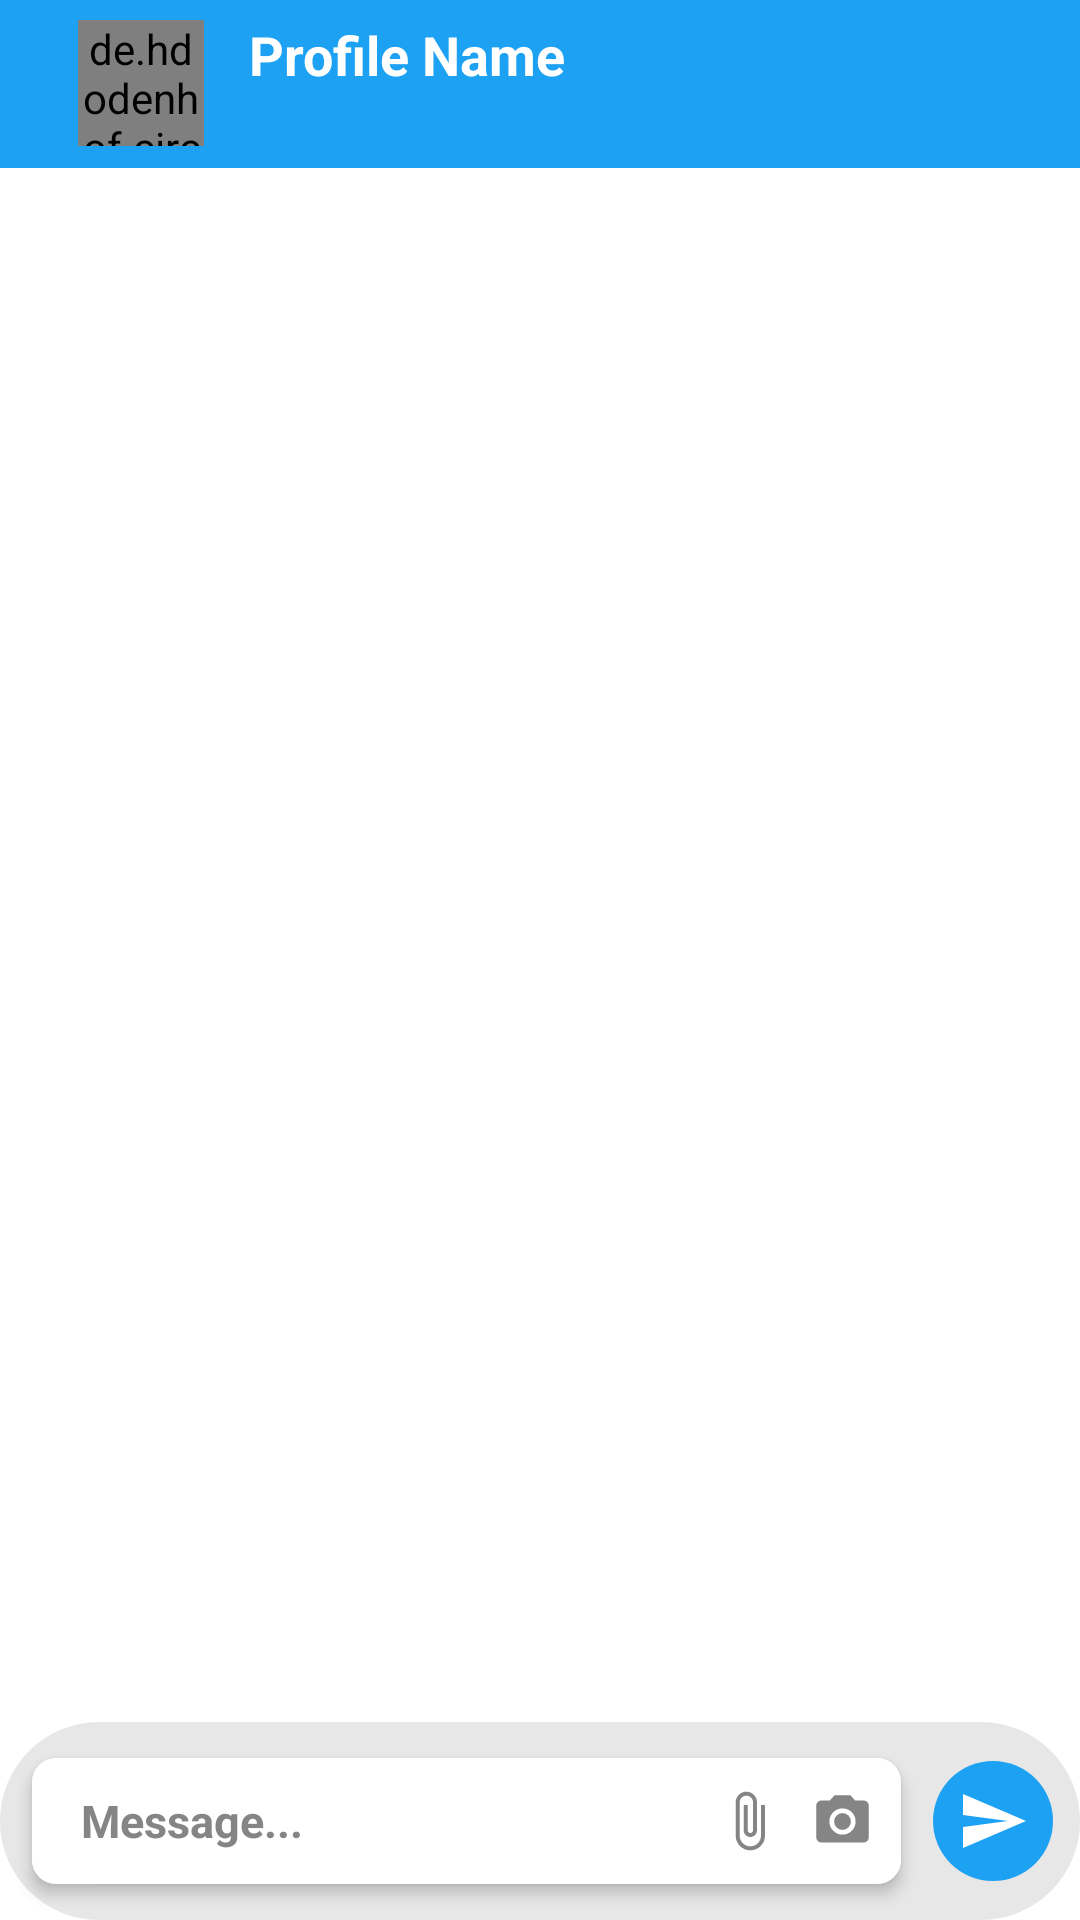

Where to tap for icons on this 1080x1920 app screen, as point (x, y):
attachment: point (750, 1821)
camera: point (842, 1819)
send: point (993, 1821)
